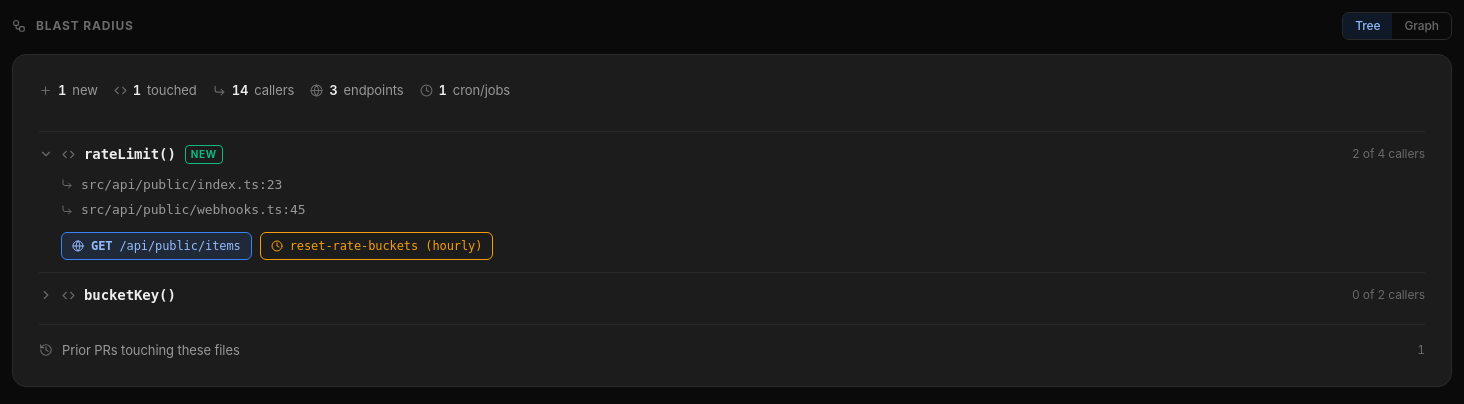
Test: BlastCard › collapses and expands a symbol's callers
The image size is (1464, 404).
What coordinates should you click on to do the following:
click the button with aria-label "Hide callers of rateLimit"
I would click on:
 (122, 154)
Its box is [39,144,1425,164].
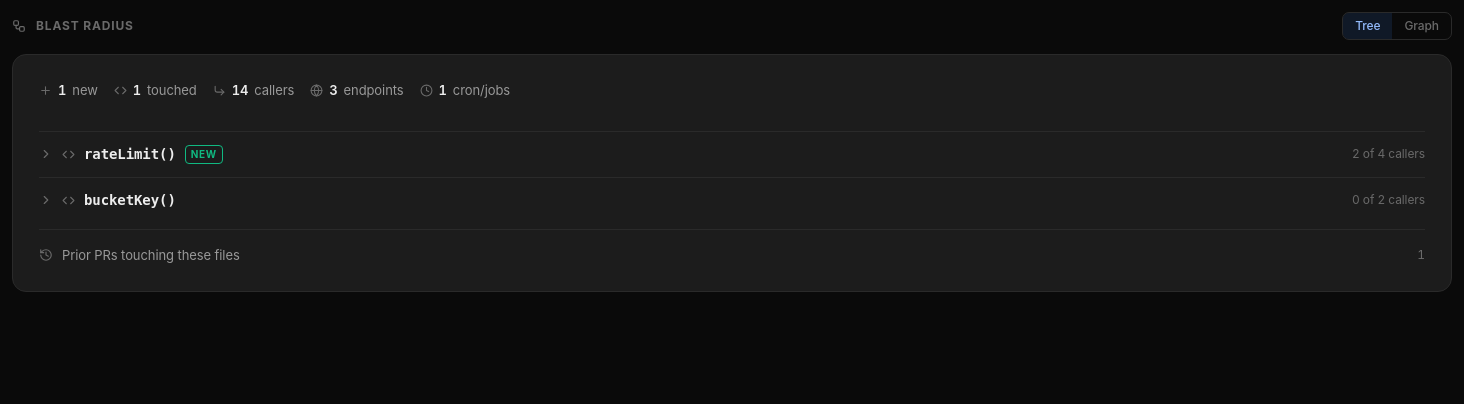
Check: the link "src/api/public/index.ts:23" is gone
What coordinates should you click on to do the following:
click the button with aria-label "Show callers of rateLimit"
I would click on:
 (122, 154)
Its box is [39,144,1425,164].
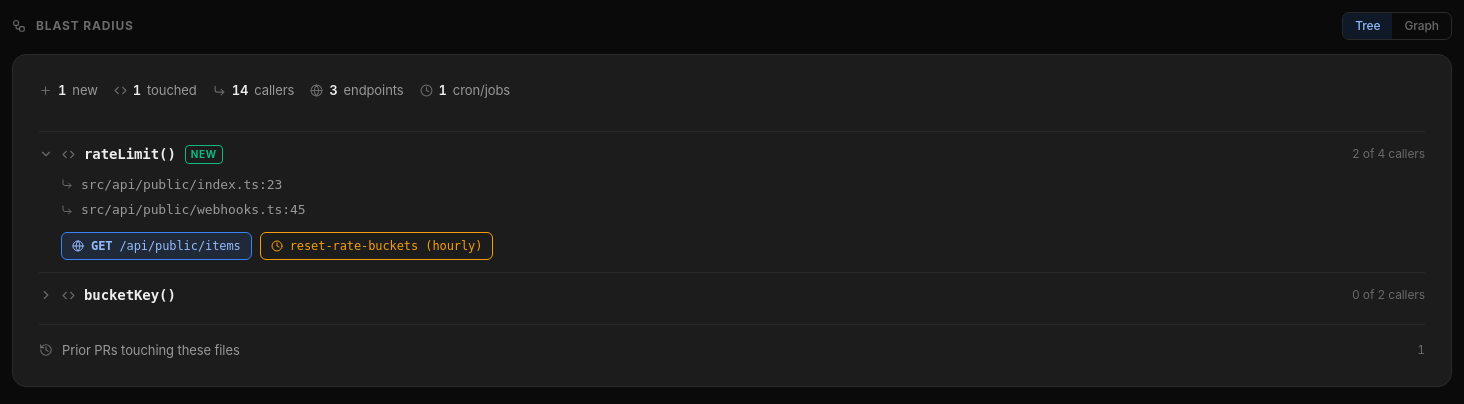
Check: the link "src/api/public/index.ts:23" is shown, box [81,174,282,194]
